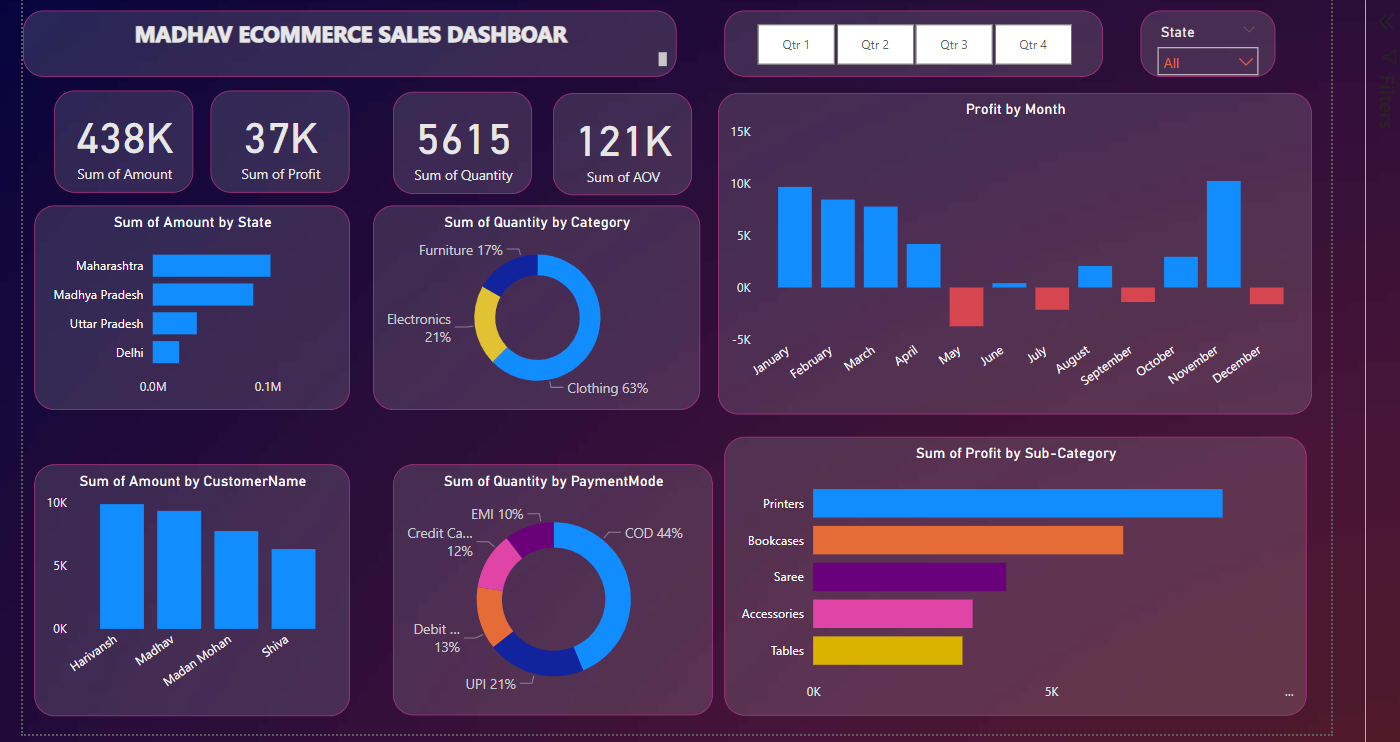

The dashboard page shown, as its layout file describes it:
{"tool":"powerbi","page":{"name":"Page 1","canvas":[1280,720],"ordinal":0},"visuals":[{"type":"textbox","title":"MADHAV ECOMMERCE SALES DASHBOAR","box":[0,12.3,639.5,64.5],"z":0},{"type":"columnChart","title":"Profit by Month","fields":{"Category":["Orders.Order Date.Variation.Date Hierarchy.Month"],"Y":["Sum(Details.Profit)1"]},"box":[679.7,92.9,580.6,314.2],"z":1000},{"type":"barChart","fields":{"Category":["Details.Sub-Category"],"Y":["Details.Profit"]},"box":[685.8,429.1,569.6,272.6],"z":2000},{"type":"donutChart","fields":{"Category":["Details.Category"],"Y":["Details.Quantity"]},"box":[341.7,203.1,319.7,200.3],"z":3000},{"type":"donutChart","fields":{"Y":["Details.Quantity"],"Category":["Details.PaymentMode"]},"box":[362.3,455.6,312.9,245.6],"z":4000},{"type":"card","fields":{"Values":["Details.Amount"]},"box":[30.2,90.6,135.8,100.2],"z":5000},{"type":"card","fields":{"Values":["Details.Profit"]},"box":[183.9,90.6,135.8,100.2],"z":6000},{"type":"card","fields":{"Values":["Details.Quantity"]},"box":[362.3,91.9,135.8,100.2],"z":7000},{"type":"card","fields":{"Values":["Details.AOV"]},"box":[518.7,93.3,135.8,100.2],"z":8000},{"type":"barChart","fields":{"Y":["Details.Amount"],"Category":["Orders.State"]},"box":[11,203.1,308.7,200.3],"z":9000},{"type":"columnChart","fields":{"Category":["Orders.CustomerName"],"Y":["Details.Amount"]},"box":[11,456,309,246],"z":10000},{"type":"slicer","fields":{"Values":["Orders.Order Date.Variation.Date Hierarchy.Quarter"]},"box":[685.8,12.2,370.4,64.8],"z":11000},{"type":"slicer","fields":{"Values":["Orders.State"]},"box":[1092.8,12.2,132,64.8],"z":13000}]}

Visuals, with their boxes in screenshot pixels (x1, y1, x2, y2):
"MADHAV ECOMMERCE SALES DASHBOAR" textbox: l=128, t=0, r=756, b=24
"Profit by Month" columnChart: l=795, t=40, r=1366, b=349
barChart - Details.Sub-Category x Details.Profit: l=801, t=371, r=1361, b=638
donutChart - Details.Category x Details.Quantity: l=463, t=149, r=777, b=345
donutChart - Details.Quantity x Details.PaymentMode: l=484, t=397, r=791, b=638
card - Details.Amount: l=157, t=38, r=291, b=136
card - Details.Profit: l=308, t=38, r=442, b=136
card - Details.Quantity: l=484, t=39, r=617, b=138
card - Details.AOV: l=637, t=41, r=771, b=139
barChart - Details.Amount x Orders.State: l=138, t=149, r=442, b=345
columnChart - Orders.CustomerName x Details.Amount: l=138, t=397, r=442, b=639
slicer - Orders.Order Date.Variation.Date Hierarchy.Quarter: l=801, t=0, r=1165, b=25
slicer - Orders.State: l=1201, t=0, r=1331, b=25
